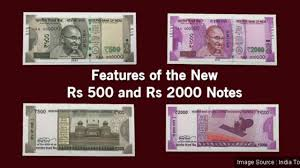twoThousand: (181, 21, 268, 57)
